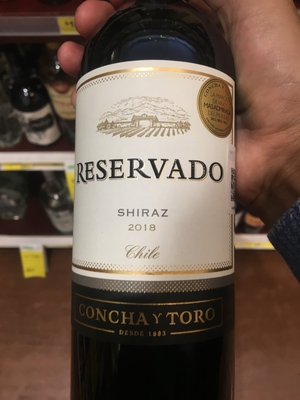reservado shiraz: (65, 32, 239, 395)
